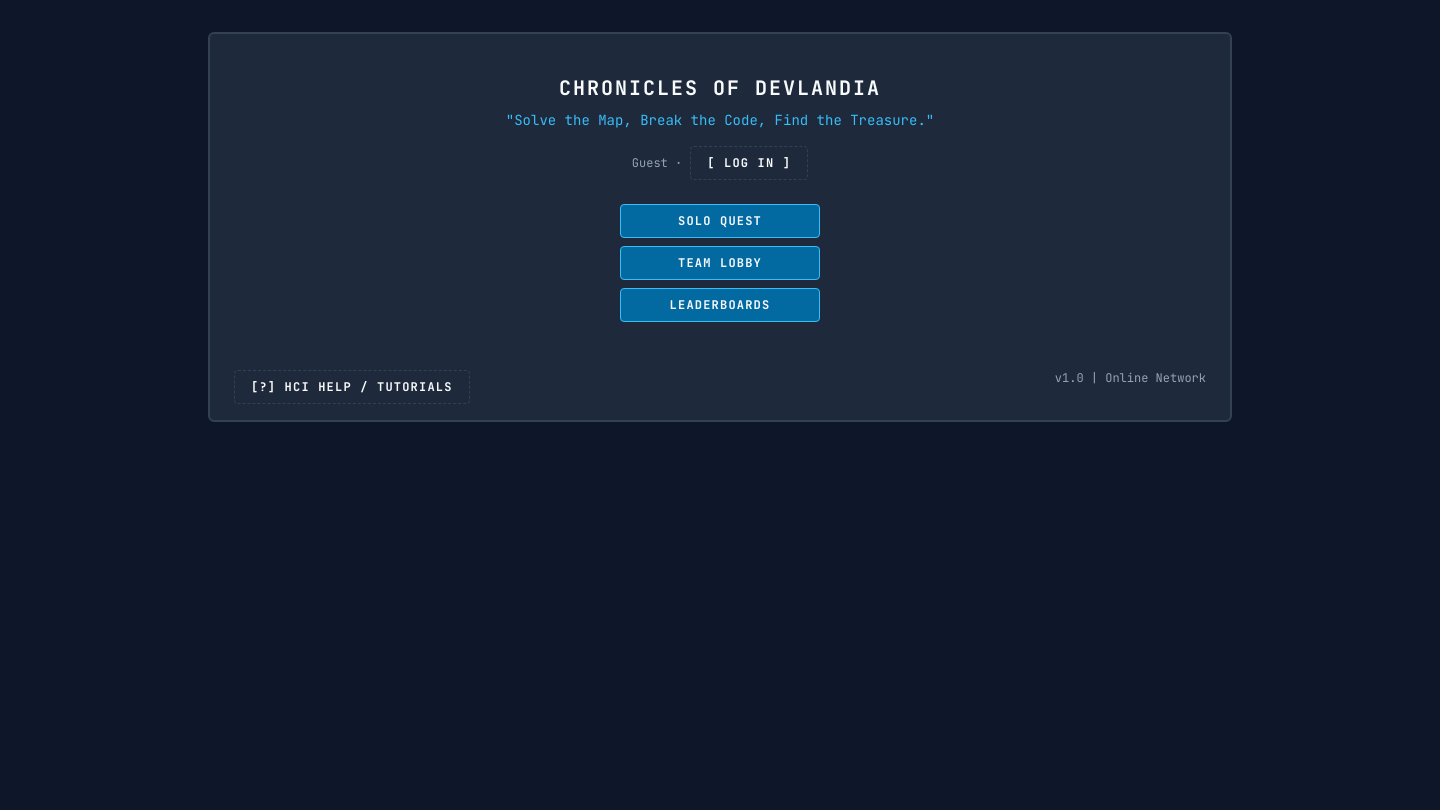
Test: App › the menu's [?] HCI Help / Tutorials opens the help on the Tutorial tab and closes again
This screenshot has width=1440, height=810.
Click the button "[?] HCI Help / Tutorials". click: coordinates (352, 387)
box: [234,370,470,404]
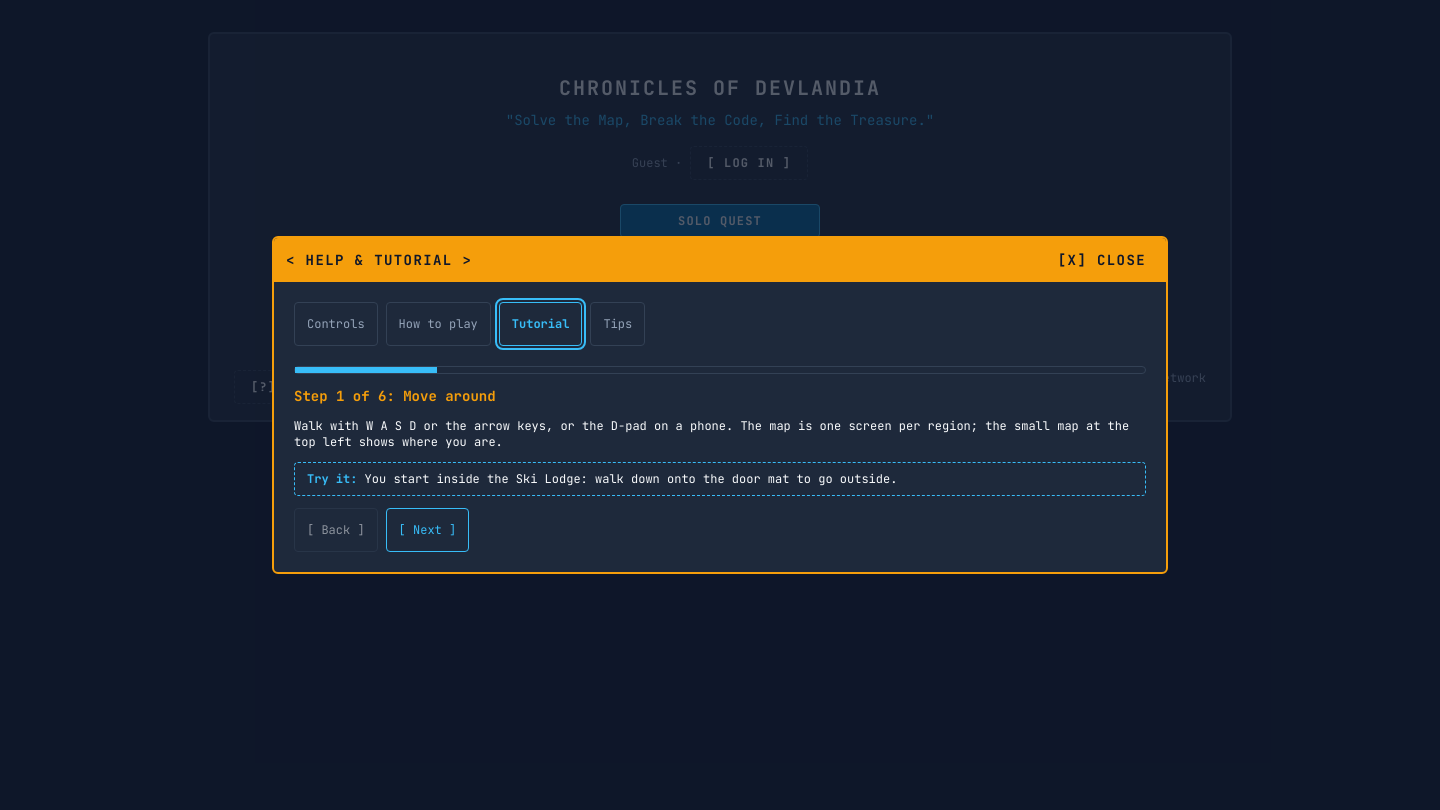
Result: the dialog "< HELP & TUTORIAL >" is shown at [272,236,1168,574]
Click the button "[X] CLOSE". click: coordinates (1102, 260)
box: [1050,246,1154,274]
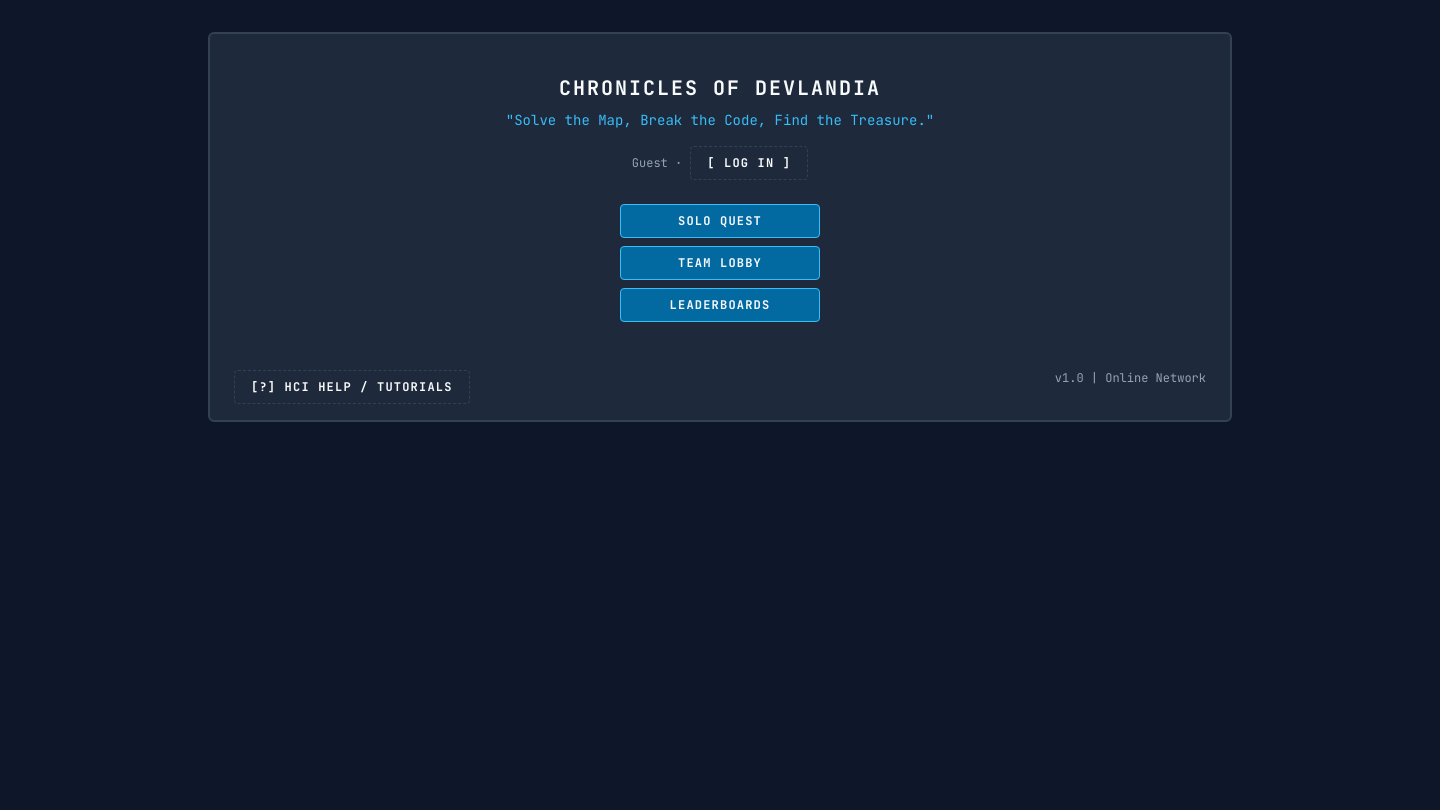
Result: the dialog is gone
